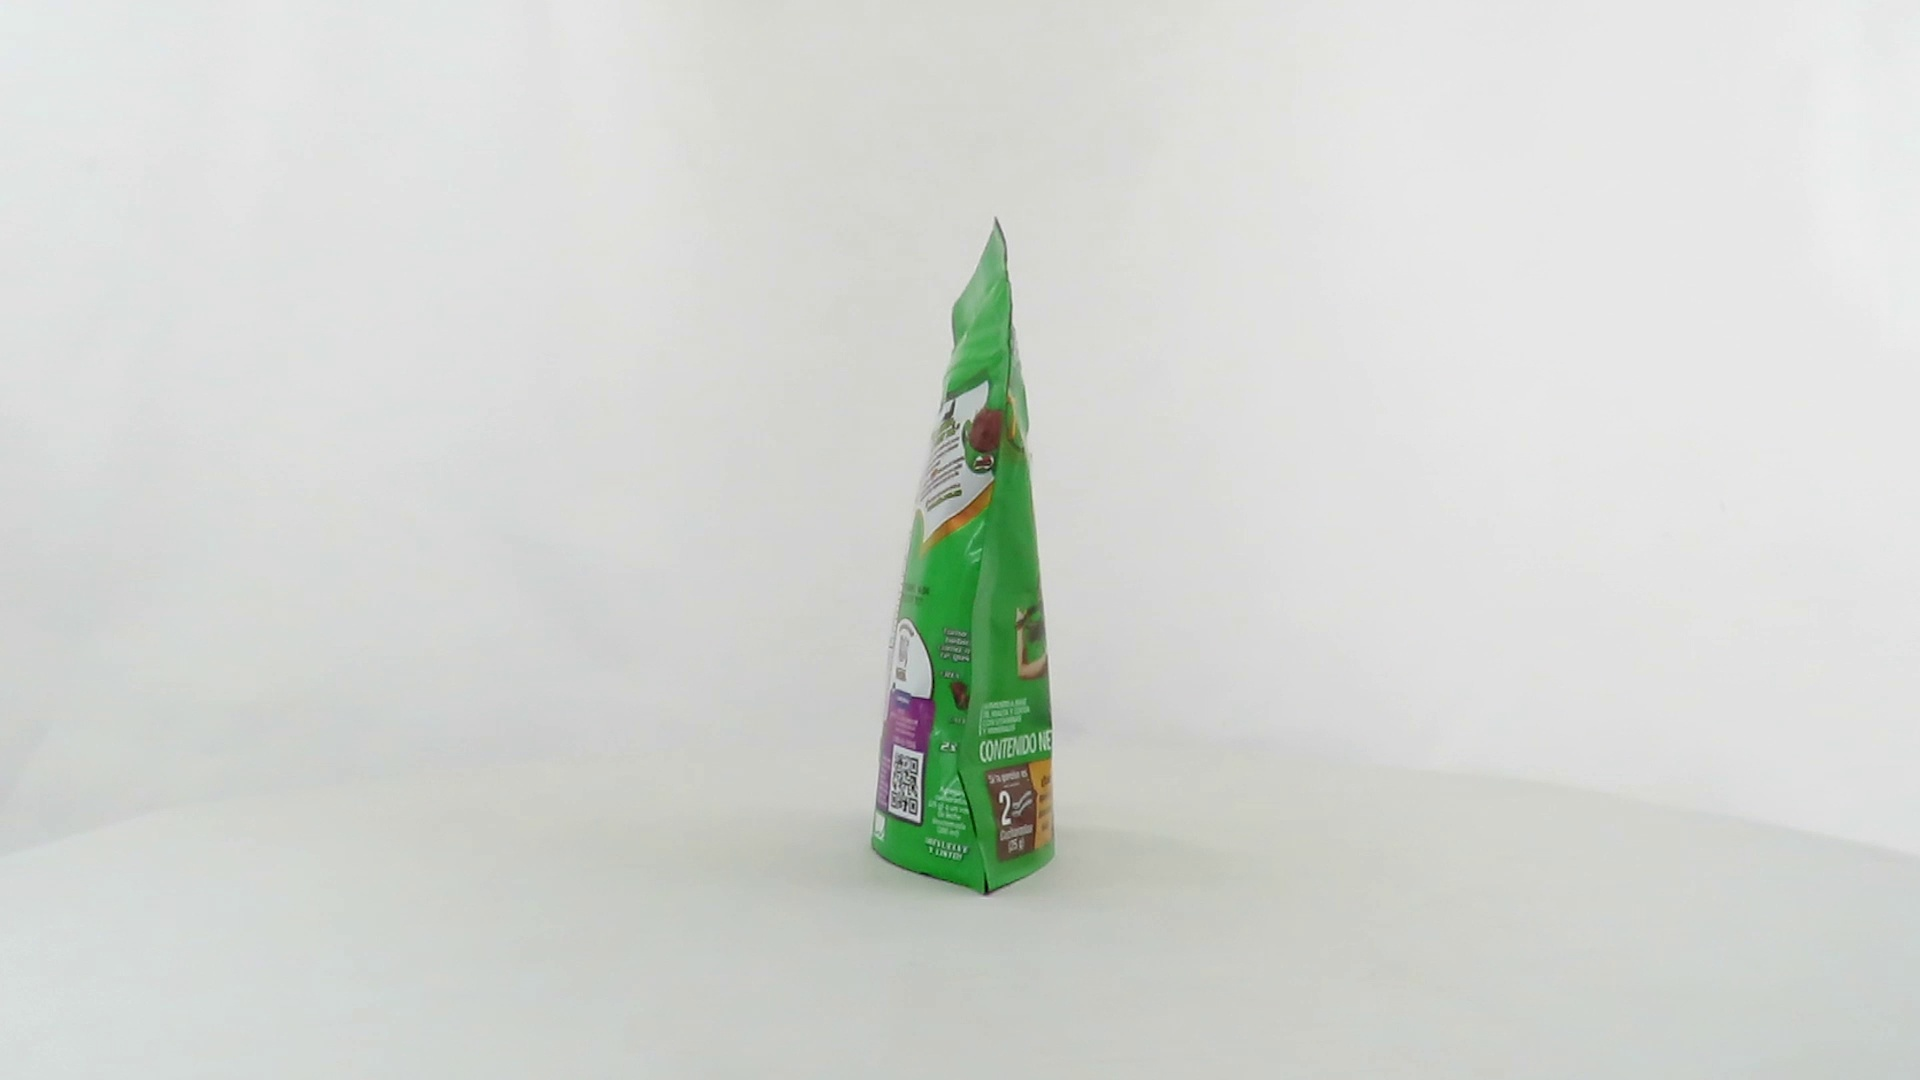COL0170203DYP10000: (866, 211, 1062, 902)
